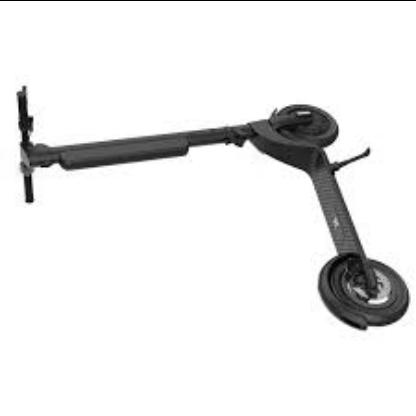bike: (14, 102, 411, 333)
